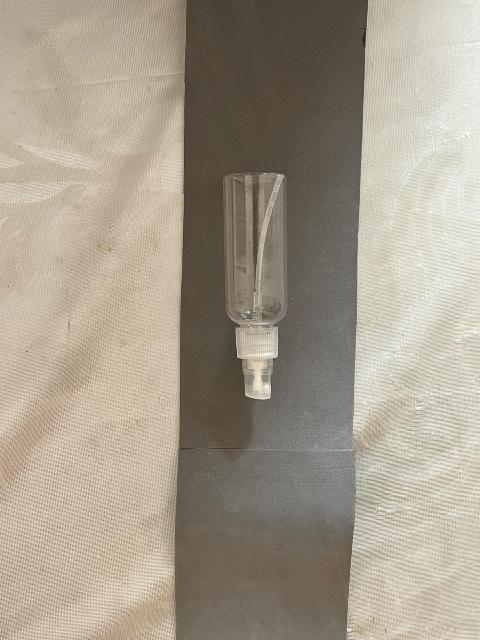PET: (187, 124, 342, 406)
